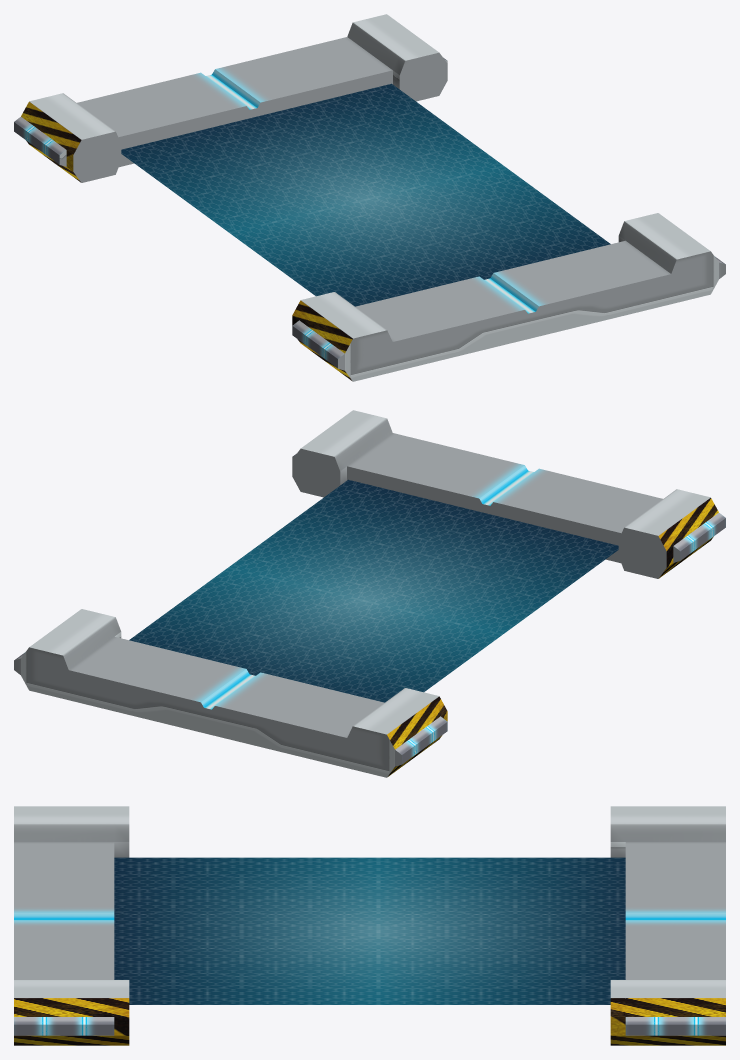
The model's file is Tile_bridge.fbx.
The picture shows the model from 3 angles, top to bottom: view 1: azimuth 30°, elevation 25°; view 2: azimuth 150°, elevation 25°; view 3: azimuth 270°, elevation 25°; orthographic projection. The views are drawn at different scales.
Parts seen in each view (by area): view 1: Tile_bridge; view 2: Tile_bridge; view 3: Tile_bridge.
Boxes of the visible parts, x1=… form: Tile_bridge: x1=14, y1=14, x2=725, y2=381; Tile_bridge: x1=14, y1=410, x2=725, y2=777; Tile_bridge: x1=14, y1=806, x2=725, y2=1045.
Bounding box in the file's own units: 4.15 × 0.4422 × 6.
Materials: 1 (1 with a texture image).
